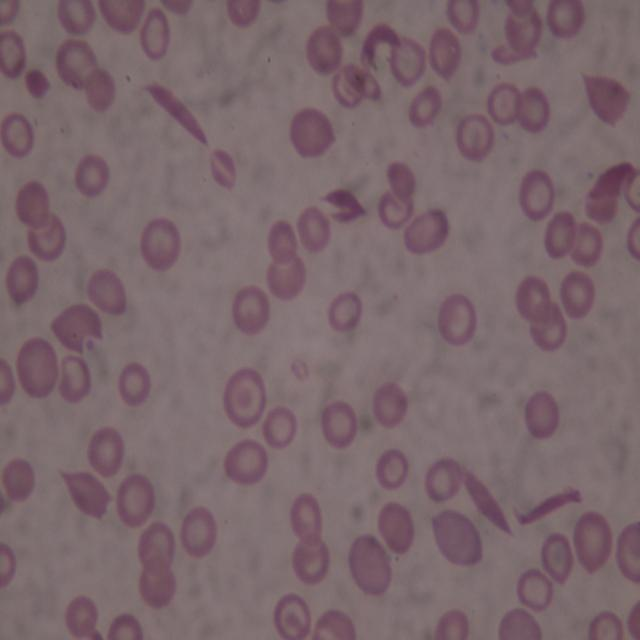Crystal: (340, 62, 382, 100)
Normal: (574, 509, 611, 573), (55, 38, 97, 88), (86, 425, 125, 475), (226, 437, 268, 482), (180, 505, 215, 558), (517, 171, 554, 221), (119, 474, 154, 526), (322, 400, 358, 448), (532, 301, 567, 350), (75, 149, 110, 197), (371, 382, 408, 427), (138, 7, 170, 59), (7, 252, 37, 307), (543, 0, 585, 39), (561, 271, 596, 317), (516, 570, 554, 612), (424, 456, 460, 500), (515, 86, 550, 130), (116, 363, 150, 408), (544, 210, 575, 259), (568, 226, 603, 268), (262, 407, 298, 447), (328, 291, 364, 331), (65, 595, 98, 636), (104, 611, 146, 639), (444, 0, 480, 32), (435, 608, 467, 640), (588, 612, 625, 639), (0, 543, 17, 589), (0, 0, 21, 26)
Others: (580, 68, 630, 128), (51, 300, 104, 355), (289, 104, 339, 158), (60, 471, 111, 523), (348, 536, 392, 596), (431, 511, 476, 568), (136, 217, 180, 274), (18, 339, 58, 396), (403, 205, 449, 253), (379, 500, 417, 555), (87, 266, 126, 318), (231, 285, 271, 335), (438, 291, 474, 345), (389, 34, 426, 86), (308, 24, 344, 76), (139, 521, 174, 573), (58, 349, 91, 404), (516, 274, 551, 325), (266, 255, 306, 299), (17, 178, 50, 230), (139, 556, 174, 605), (28, 215, 66, 260), (289, 492, 321, 544), (541, 533, 574, 583), (325, 0, 367, 39), (499, 12, 541, 51), (292, 537, 330, 580), (523, 394, 559, 439), (429, 30, 460, 82), (456, 114, 494, 156), (408, 84, 443, 128), (96, 0, 142, 33), (1, 114, 34, 159), (57, 1, 98, 37), (488, 81, 523, 123), (496, 610, 545, 640), (617, 521, 640, 584), (585, 185, 621, 223), (377, 192, 415, 228), (298, 208, 329, 252), (385, 159, 418, 200), (375, 451, 409, 490), (4, 458, 32, 504), (314, 609, 354, 640), (85, 70, 114, 112), (211, 144, 238, 189), (270, 221, 300, 261), (0, 34, 26, 79), (332, 72, 362, 110), (227, 2, 259, 31), (23, 70, 50, 100), (1, 356, 17, 406), (627, 216, 640, 264), (157, 0, 194, 15), (628, 598, 640, 640), (505, 0, 537, 15)
Sickle: (452, 460, 518, 538), (142, 80, 206, 148), (514, 486, 582, 528), (583, 161, 638, 200), (360, 22, 402, 70), (320, 187, 368, 213), (489, 42, 539, 65), (330, 209, 365, 223)
Target: (222, 369, 266, 428), (272, 593, 311, 638)
